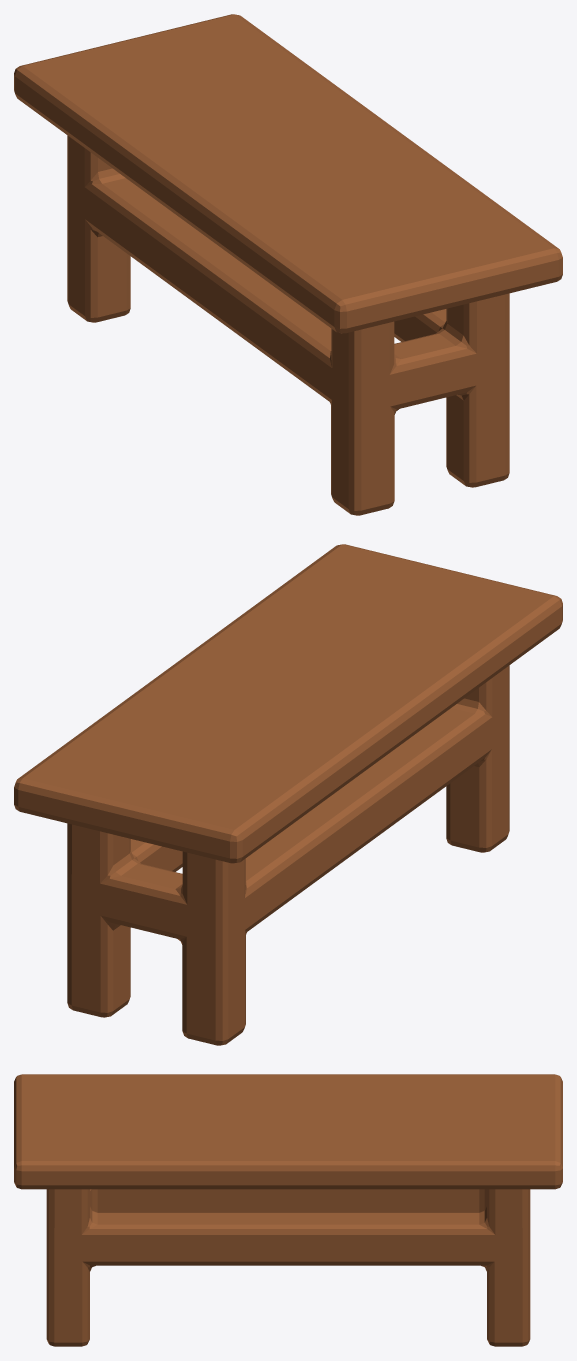
Rendered from StoolStaticX2.fbx.
The picture shows the model from 3 angles, top to bottom: view 1: azimuth 30°, elevation 25°; view 2: azimuth 150°, elevation 25°; view 3: azimuth 270°, elevation 25°; orthographic projection. The views are drawn at different scales.
Visible parts, largest first — view 1: StoolStaticX2; view 2: StoolStaticX2; view 3: StoolStaticX2.
Part boxes in pixels (x1,y1,x2,y2): StoolStaticX2: (14,14,562,515); StoolStaticX2: (14,544,562,1045); StoolStaticX2: (14,1074,562,1346).
Bounding box in the file's own units: 250 × 100 × 100.
